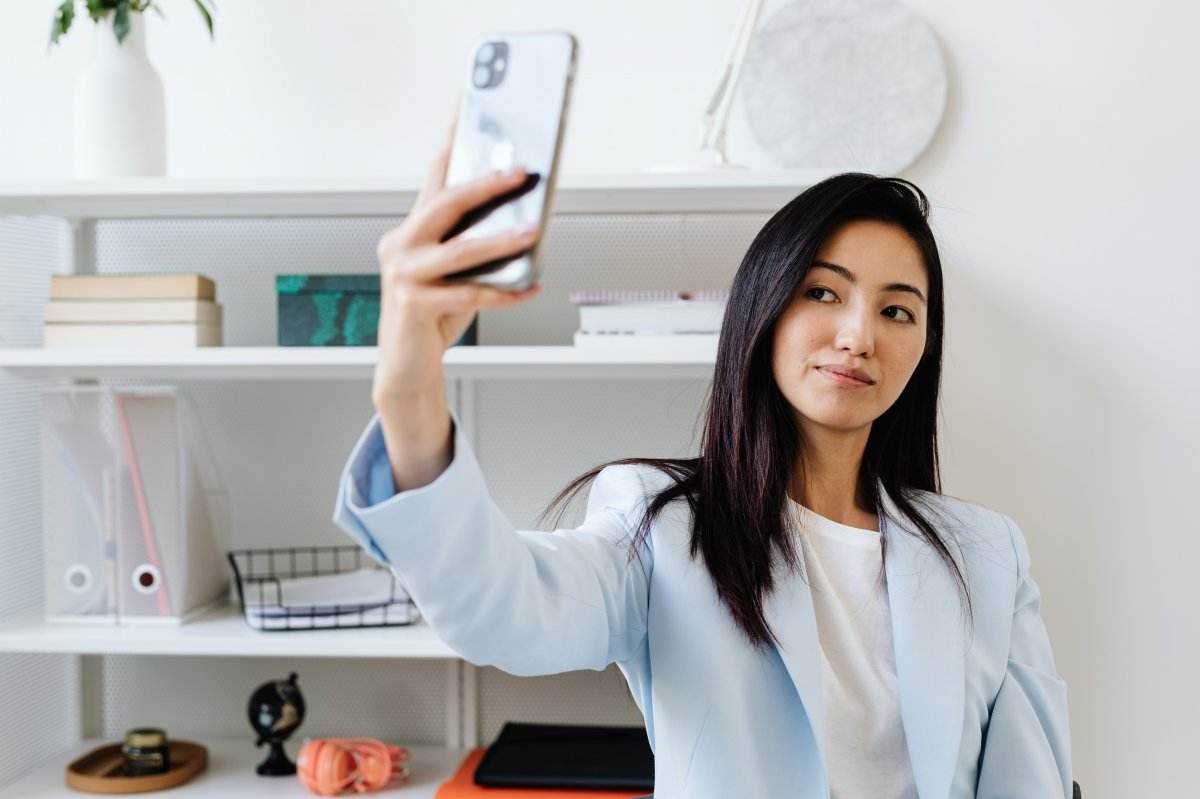taking photos: (368, 19, 584, 420)
